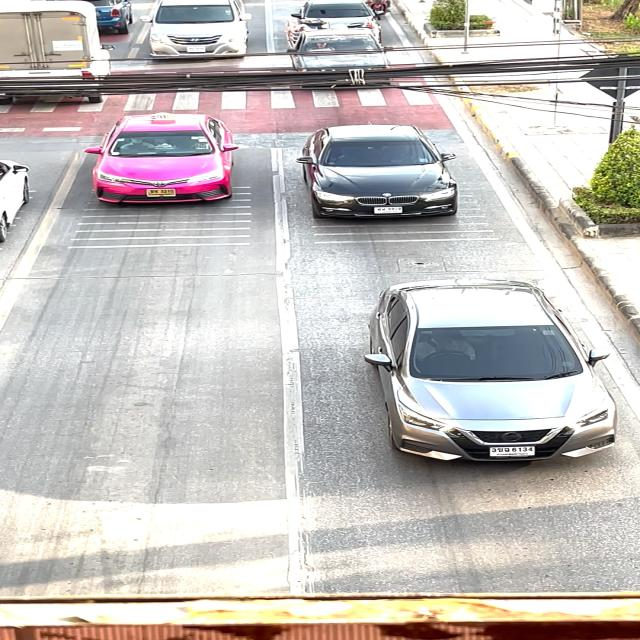car: (350, 266, 637, 476), (297, 112, 461, 237), (77, 106, 232, 210), (129, 0, 270, 65), (284, 0, 398, 64)
